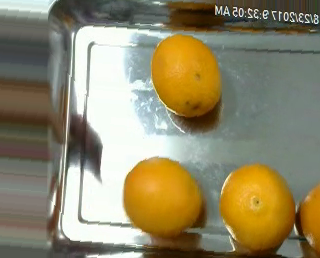Orange: (219, 163, 297, 251), (121, 155, 202, 235), (152, 33, 222, 118)
